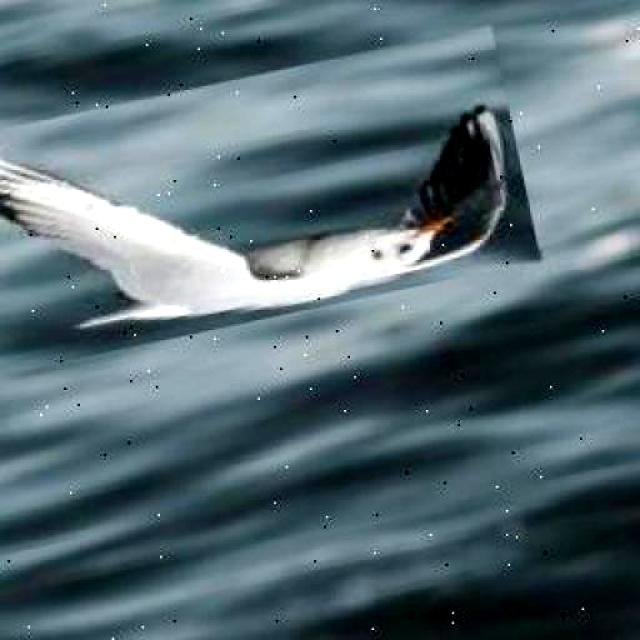airplane: (0, 25, 540, 379)
